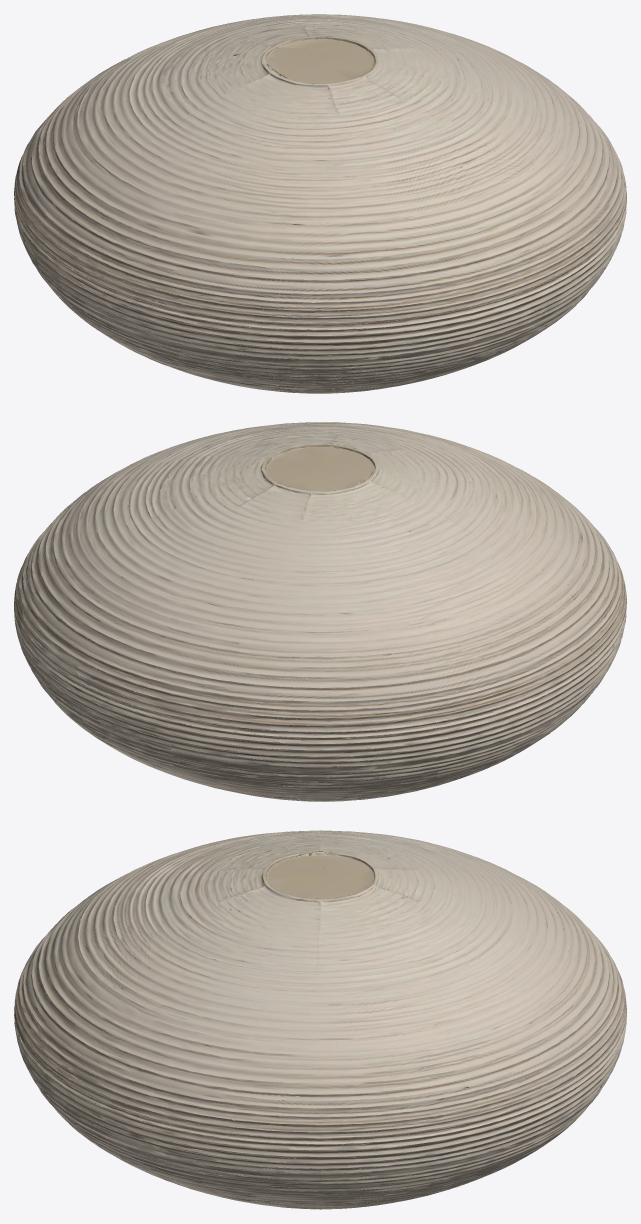
Rendered from paper_lantern.glb.
3 views of the same model, one above another, from view 1: azimuth 30°, elevation 25°; view 2: azimuth 150°, elevation 25°; view 3: azimuth 270°, elevation 25° (orthographic).
Parts seen in each view (by area): view 1: node_0; view 2: node_0; view 3: node_0.
Boxes of the visible parts, bbox=[...] form: node_0: bbox=[14, 14, 626, 393]; node_0: bbox=[14, 422, 626, 801]; node_0: bbox=[14, 830, 626, 1209].
Size of the model in its own units: 1.19 by 0.6463 by 1.2.
Materials: 1 (1 with a texture image).
